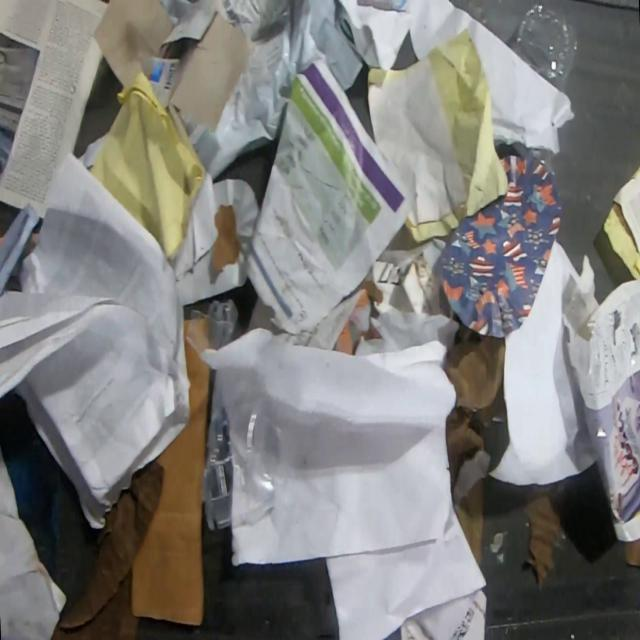cardboard: (131, 342, 211, 628), (439, 155, 564, 338), (93, 0, 251, 134), (442, 325, 507, 487), (354, 256, 450, 318), (457, 480, 485, 567), (624, 536, 639, 568)
rigid_plastic: (200, 368, 291, 534), (510, 0, 580, 94), (184, 298, 254, 358), (510, 142, 556, 178)
